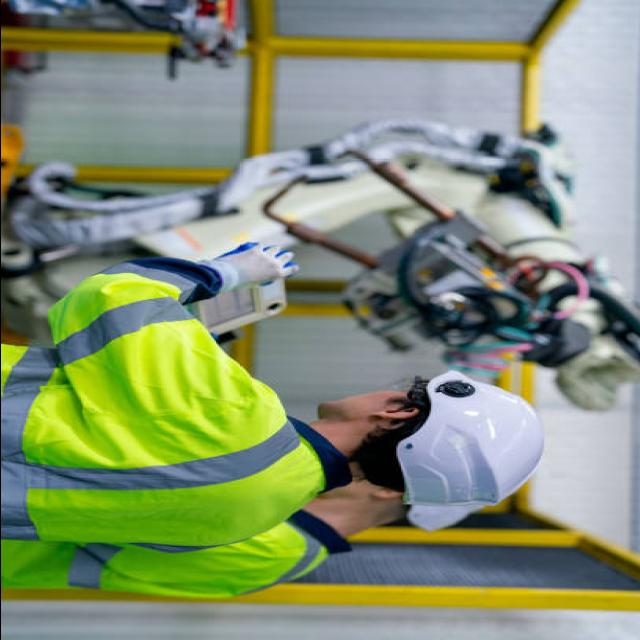Robotic-arm: (209, 112, 637, 408)
